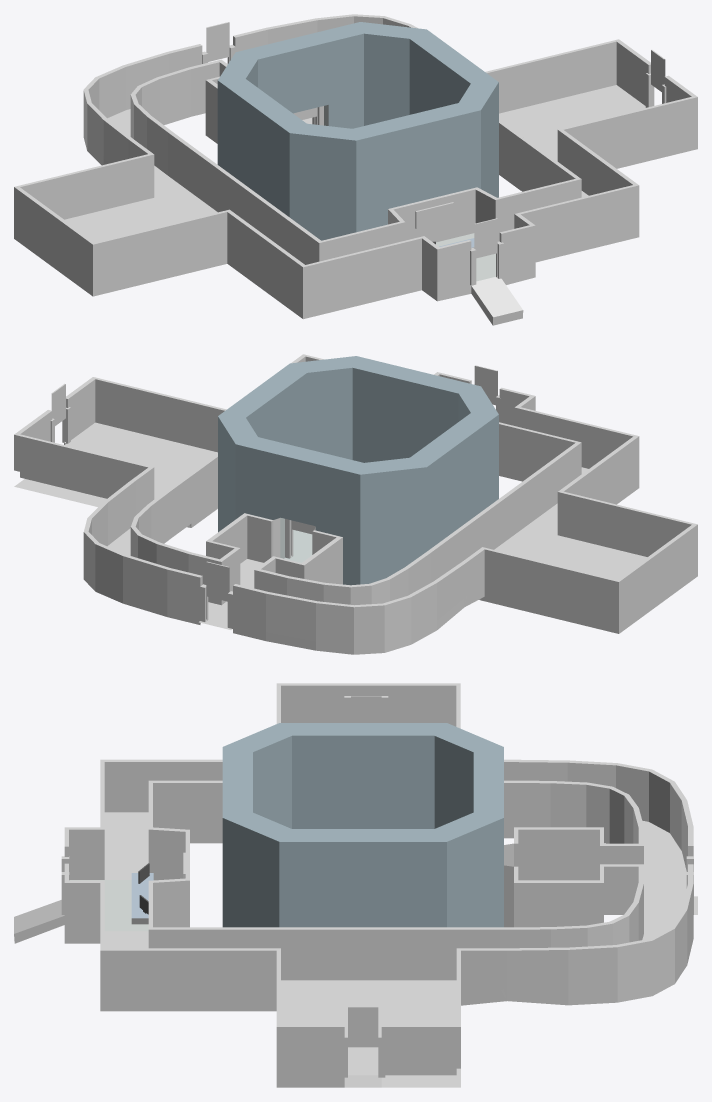
Rendered from Wakatta(1).fbx.
The picture shows the model from 3 angles, top to bottom: view 1: azimuth 30°, elevation 25°; view 2: azimuth 150°, elevation 25°; view 3: azimuth 270°, elevation 25°; orthographic projection. The views are drawn at different scales.
Parts seen in each view (by area): view 1: Core_Wall_Front, Core_Wall_Front.001, Path, Core_Wall_Front.002, Path.004, Path.006, Wall_Right_Down, Wall_Up_Left, Path.011, WALL_Up_Down_Right.001, Wall_Right_Up, Path.002 (+19 smaller); view 2: Core_Wall_Front.001, Core_Wall_Front, WALL_Up_Down_Right.001, Path, Up_Right, Core_Wall_Front.002, Path.002, Wall_Right_Down, MeetingRoom, Path.004, Wall_Right_Up, Wall_Up_Left (+18 smaller); view 3: Path, Core_Wall_Front.003, Core_Wall_Front.002, Up_Right, Core_Wall_Front, Core_Wall_Front.001, Path.013, MeetingRoom, Path.015, Wall_Up_Left, WALL_Up_Down_Right.001, Path.003 (+12 smaller).
Boxes of the visible parts, left/top/right/bottom form: Core_Wall_Front: left=289, top=82, right=498, bottom=240; Core_Wall_Front.001: left=218, top=22, right=426, bottom=128; Path: left=64, top=36, right=652, bottom=325; Core_Wall_Front.002: left=217, top=79, right=306, bottom=216; Path.004: left=93, top=209, right=230, bottom=296; Path.006: left=303, top=236, right=423, bottom=319; Wall_Right_Down: left=558, top=96, right=697, bottom=168; Wall_Up_Left: left=130, top=59, right=220, bottom=189; Path.011: left=515, top=185, right=639, bottom=262; WALL_Up_Down_Right.001: left=83, top=44, right=202, bottom=165; Wall_Right_Up: left=485, top=39, right=618, bottom=113; Path.002: left=14, top=153, right=154, bottom=219; Core_Wall_Front.001: left=218, top=416, right=426, bottom=585; Core_Wall_Front: left=290, top=356, right=498, bottom=462; WALL_Up_Down_Right.001: left=233, top=548, right=484, bottom=654; Path: left=14, top=380, right=647, bottom=629; Up_Right: left=83, top=467, right=202, bottom=624; Core_Wall_Front.002: left=410, top=413, right=498, bottom=551; Path.002: left=480, top=547, right=618, bottom=633; Wall_Right_Down: left=93, top=377, right=226, bottom=452; MeetingRoom: left=206, top=513, right=342, bottom=588; Path.004: left=557, top=491, right=696, bottom=556; Wall_Right_Up: left=14, top=434, right=153, bottom=498; Wall_Up_Left: left=254, top=538, right=449, bottom=605; Path: left=14, top=812, right=697, bottom=1087; Core_Wall_Front.003: left=279, top=829, right=446, bottom=927; Core_Wall_Front.002: left=280, top=723, right=446, bottom=828; Up_Right: left=461, top=864, right=693, bottom=1005; Core_Wall_Front: left=222, top=723, right=291, bottom=927; Core_Wall_Front.001: left=434, top=723, right=503, bottom=927; Path.013: left=100, top=948, right=280, bottom=1011; MeetingRoom: left=504, top=827, right=603, bottom=927; Path.015: left=281, top=927, right=456, bottom=980; Wall_Up_Left: left=504, top=780, right=643, bottom=845; WALL_Up_Down_Right.001: left=504, top=759, right=693, bottom=870; Path.003: left=277, top=683, right=459, bottom=726.
Bounding box in the file's own units: 7379 × 1530 × 6202.
